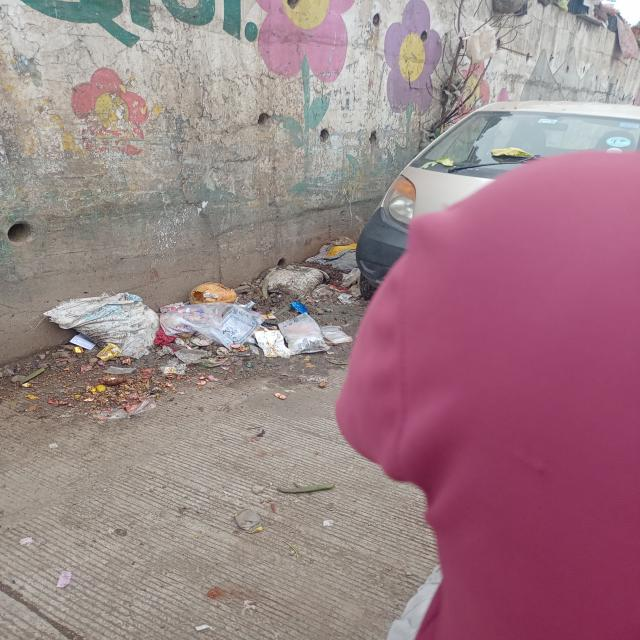garbage: (53, 266, 360, 370)
